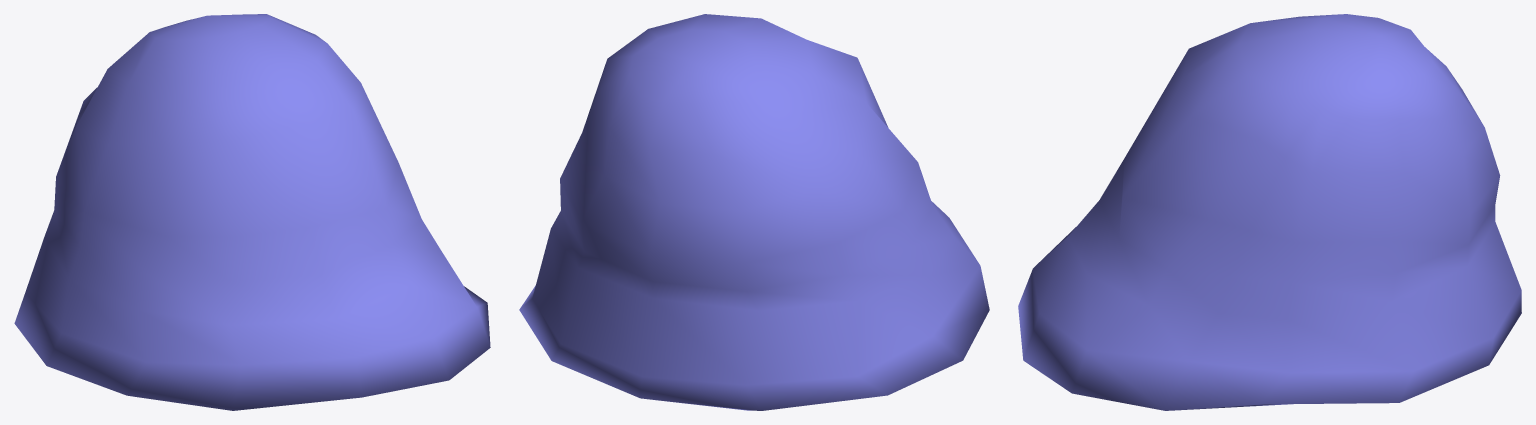
Rendered from slime color.fbx.
3 views of the same model, side by side, from view 1: azimuth 30°, elevation 25°; view 2: azimuth 150°, elevation 25°; view 3: azimuth 270°, elevation 25° (orthographic). The views are drawn at different scales.
Visible parts, largest first — view 1: slime; view 2: slime; view 3: slime.
Part boxes in pixels (<box>): slime: <box>14,14,490,410</box>; slime: <box>519,14,989,410</box>; slime: <box>1018,14,1521,410</box>.
Bounding box in the file's own units: 59.75 × 42 × 61.89.
